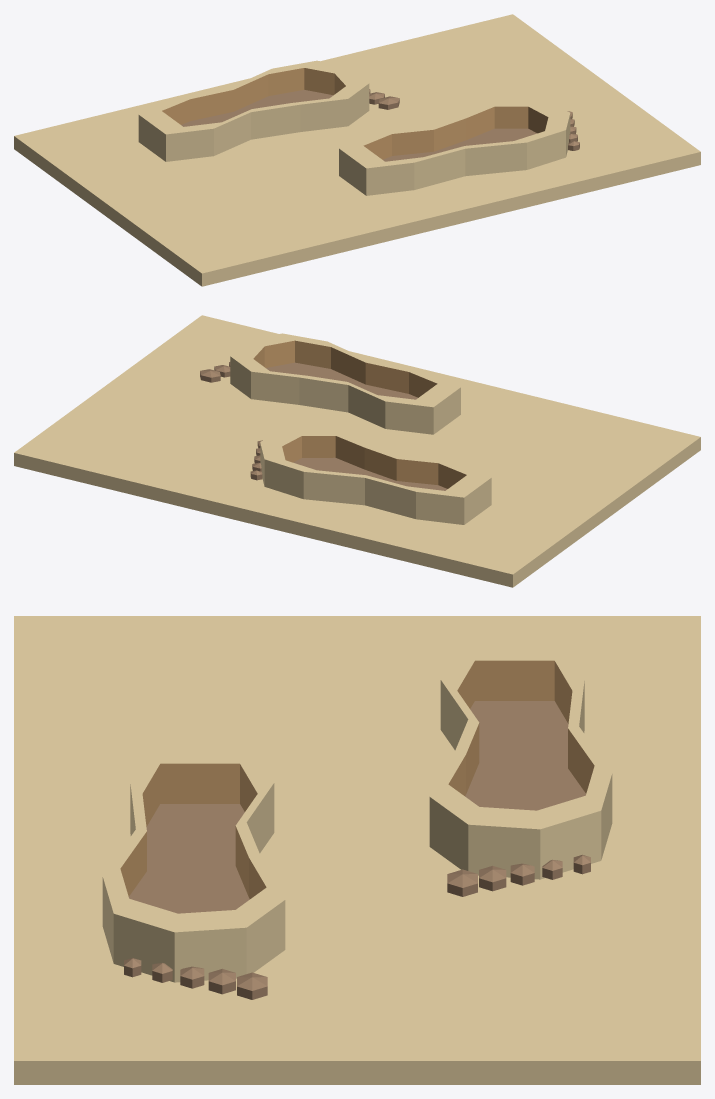
File: laetoli-footprints.2f8558bc1a63.glb
The picture shows the model from 3 angles, top to bottom: view 1: azimuth 30°, elevation 25°; view 2: azimuth 150°, elevation 25°; view 3: azimuth 270°, elevation 25°; orthographic projection. The views are drawn at different scales.
Parts seen in each view (by area): view 1: laetoli-footprints; view 2: laetoli-footprints; view 3: laetoli-footprints.
Part boxes in pixels (left/top/right/bottom): laetoli-footprints: left=14, top=14, right=700, bottom=286; laetoli-footprints: left=14, top=315, right=700, bottom=587; laetoli-footprints: left=14, top=616, right=700, bottom=1084.
Bounding box in the file's own units: 1 × 0.0789 × 0.6526.
